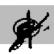not correct: (8, 8, 52, 53)
